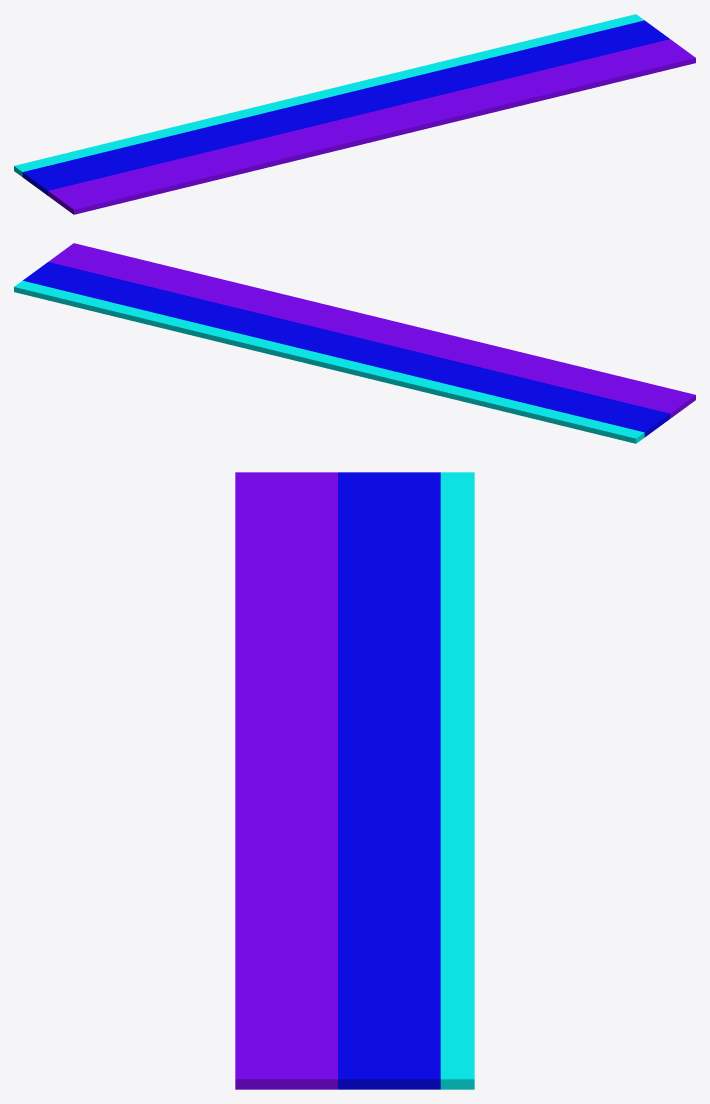
File: Eruption-2.obj
The picture shows the model from 3 angles, top to bottom: view 1: azimuth 30°, elevation 25°; view 2: azimuth 150°, elevation 25°; view 3: azimuth 270°, elevation 25°; orthographic projection. The views are drawn at different scales.
Bounding box in the file's own units: 12.6 × 0.1 × 2.1.
Materials: 1 (1 with a texture image).
